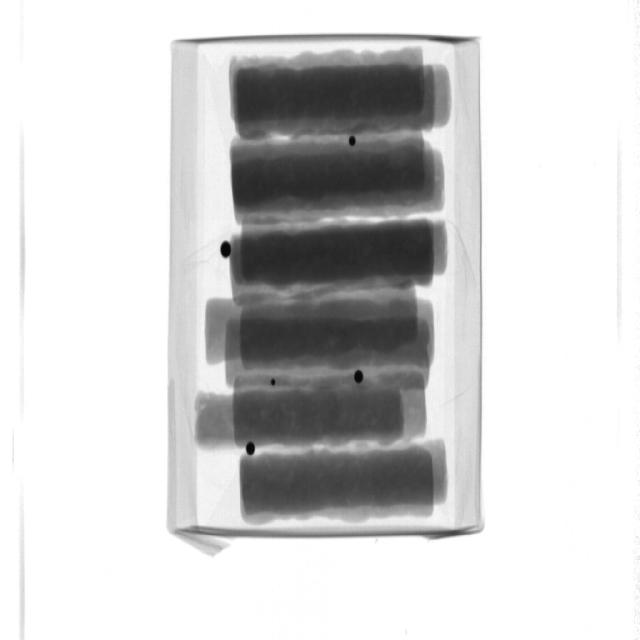ym: (221, 242, 233, 259), (246, 443, 257, 458), (356, 369, 364, 384), (350, 137, 357, 147), (272, 380, 278, 387)
